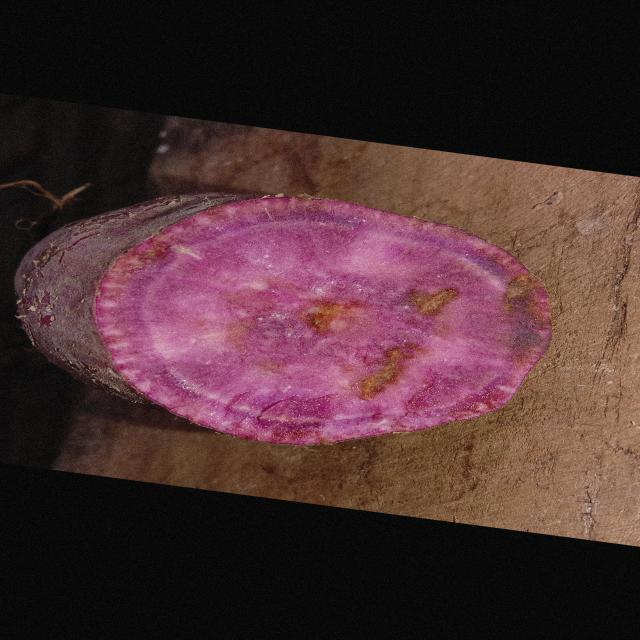Sick Sweet Potato_Tuber Rot: (96, 198, 551, 445)
